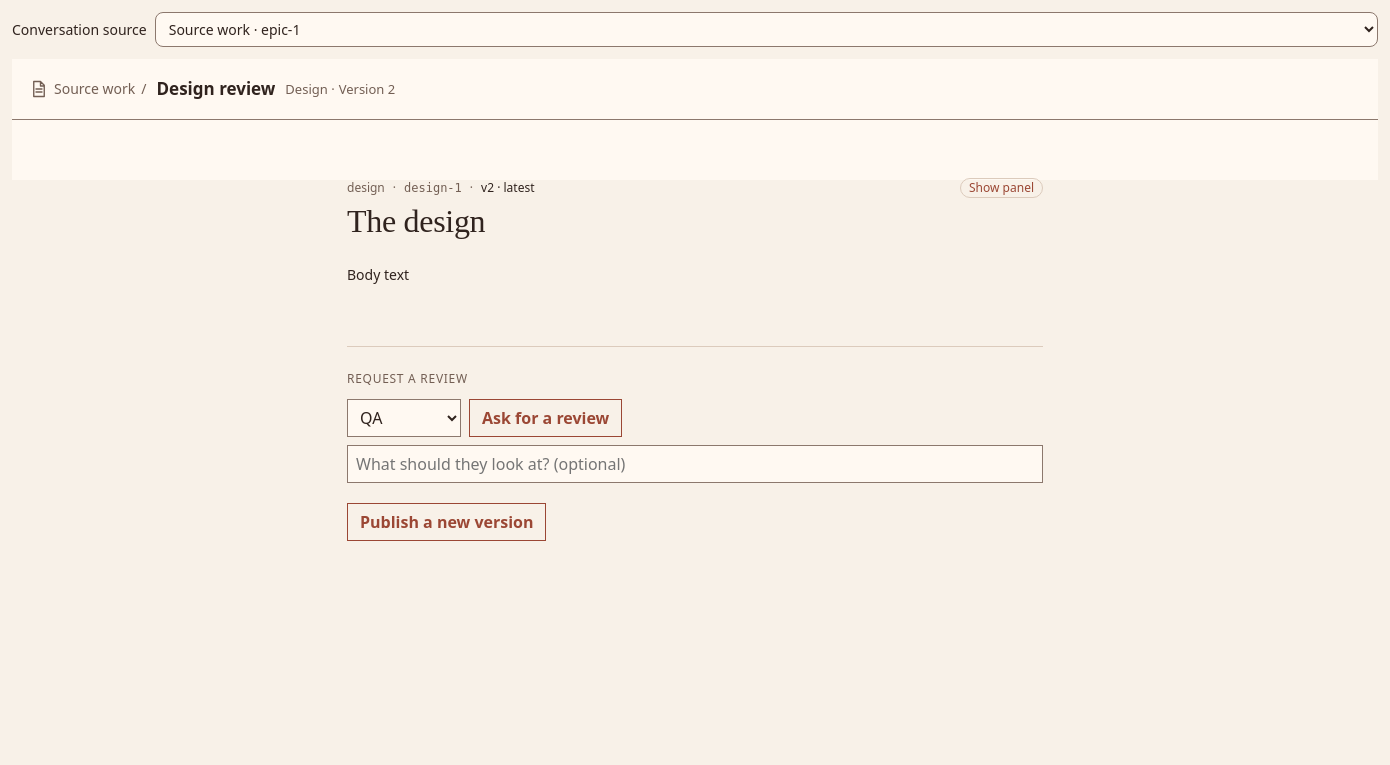
DocView › posts a structured local document comment to the auto-selected source
The width and height of the screenshot is (1390, 765).
Check: the element named "Document review" is shown, box [12,59,1378,180]
Click the button with test id "doc-reader-toggle": (1002, 188) [960,178,1043,198]
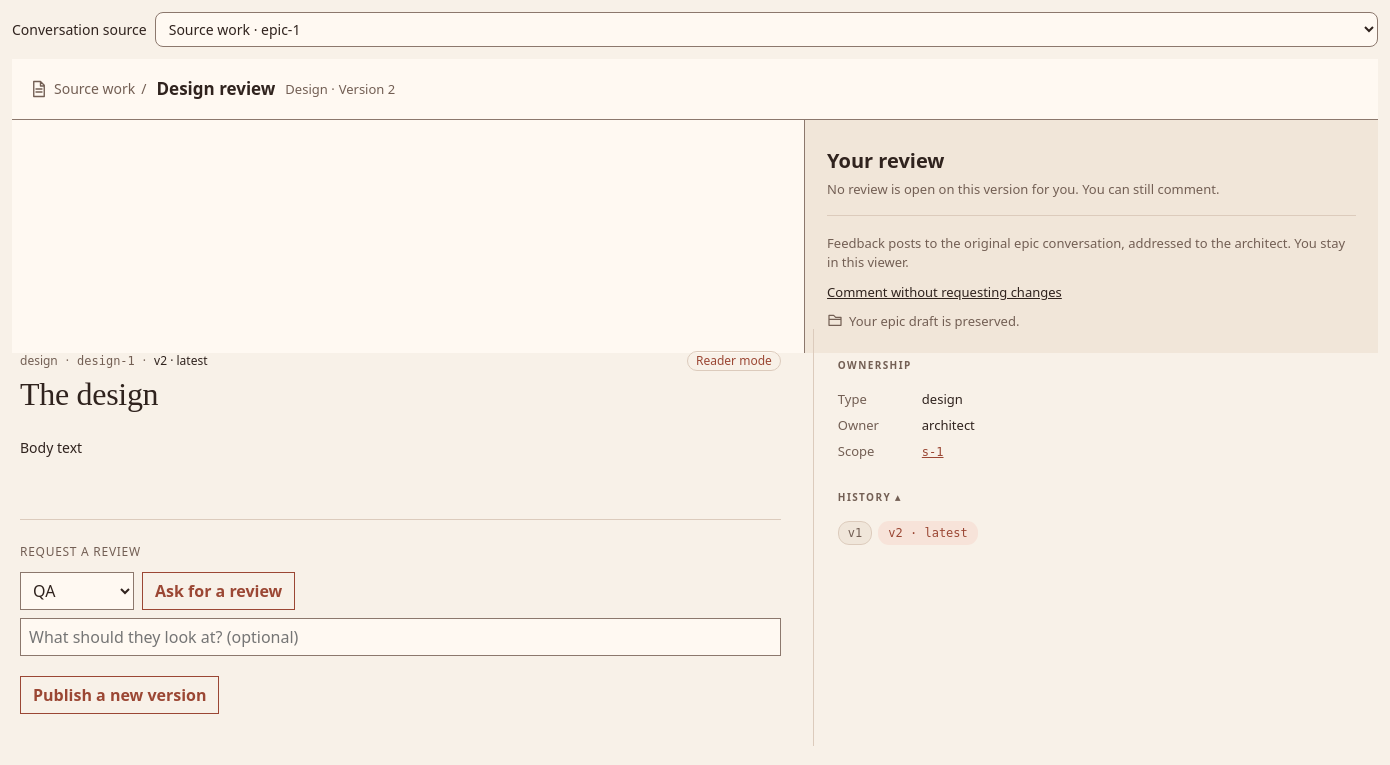
Click the button "Comment without requesting changes": (944, 292) [827,280,1062,304]
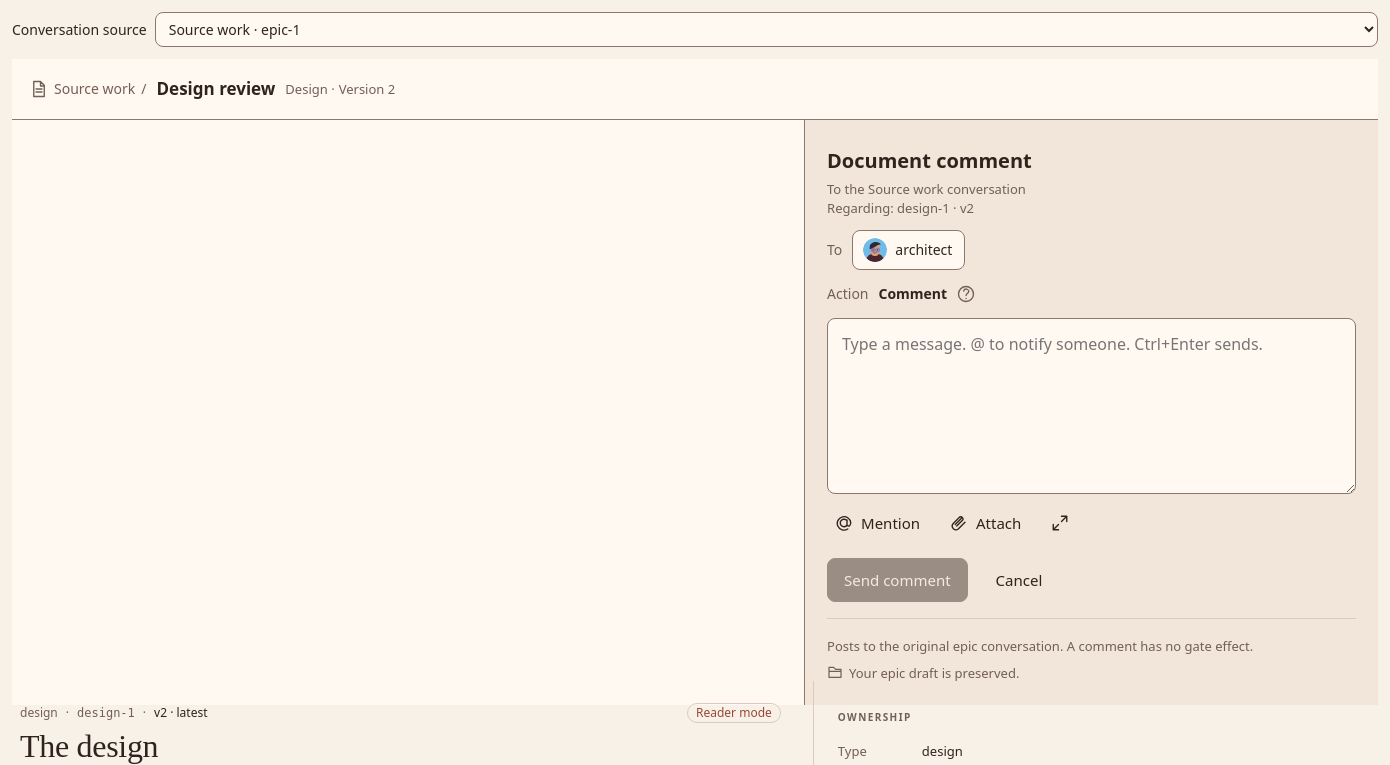
In the text box labelled "message": (1091, 406) [827,318,1356,494], type "looks good"
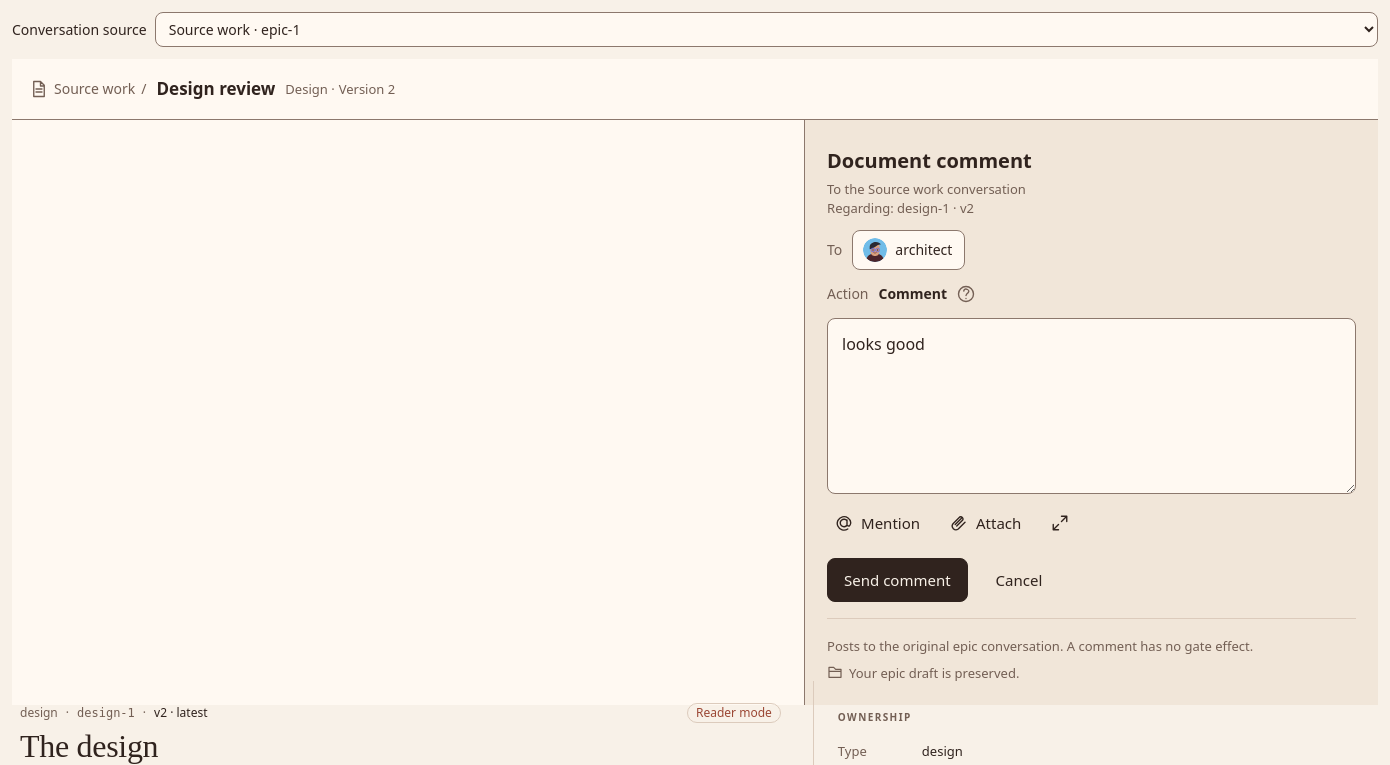
Click the button "Send comment": (897, 580) [827,558,968,602]
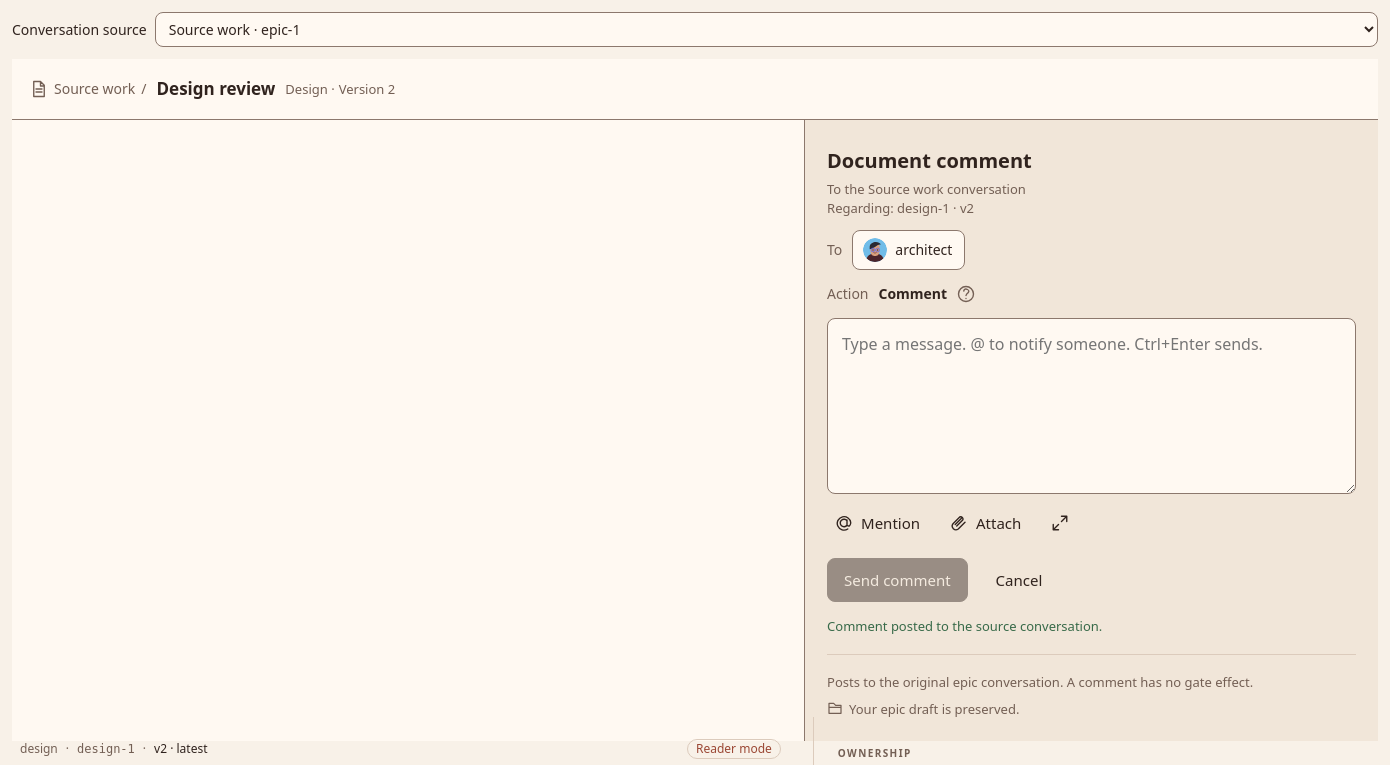
Check: the text "Comment posted to the source conversation." is shown, box [827,617,1102,635]
